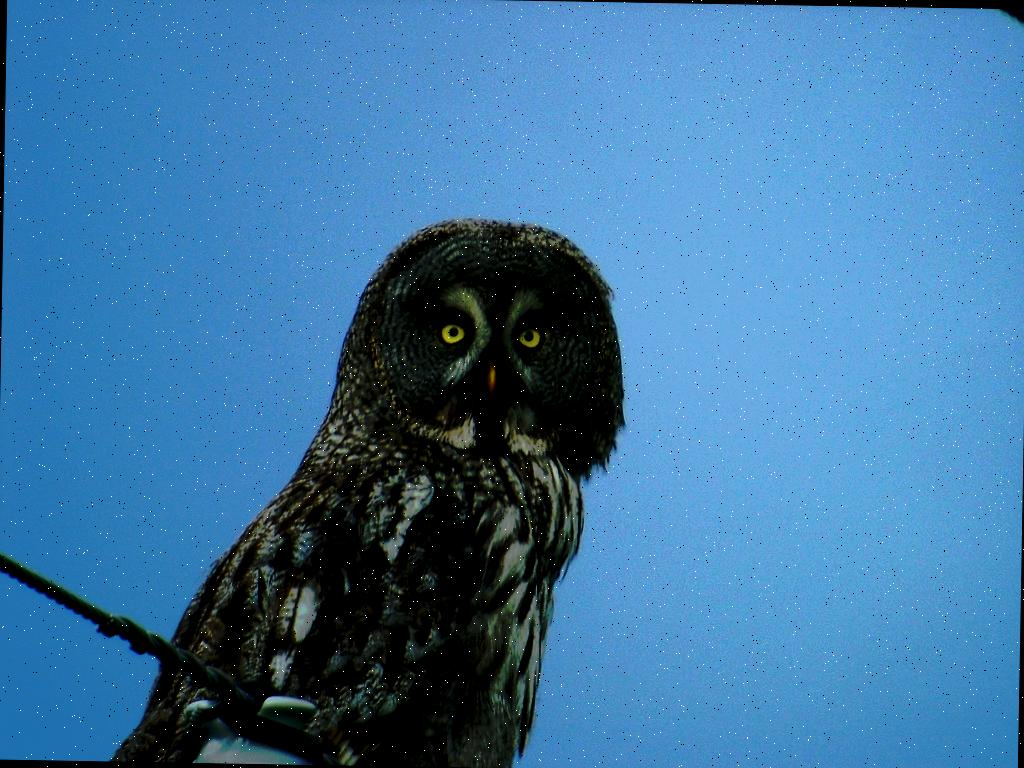Owl: (112, 210, 637, 768)
